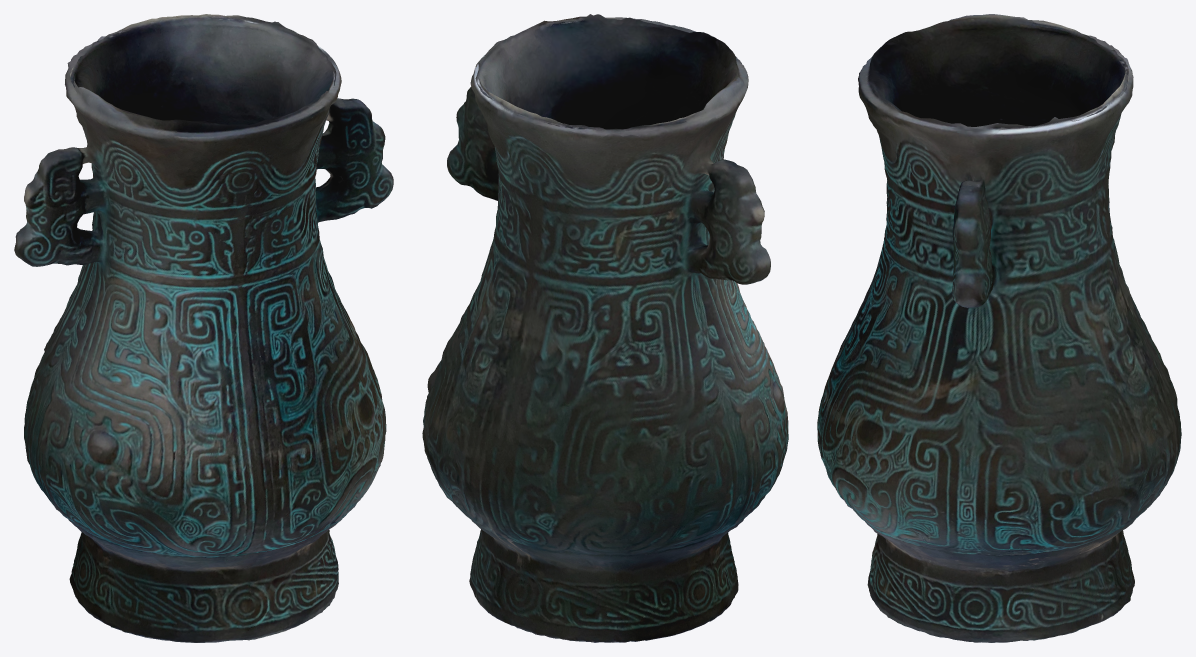
File: 三年兴壶.glb
3 renders of one model, left to right at view 1: azimuth 30°, elevation 25°; view 2: azimuth 150°, elevation 25°; view 3: azimuth 270°, elevation 25°, orthographic.
Parts seen in each view (by area): view 1: Object_4; view 2: Object_4; view 3: Object_4.
Boxes of the visible parts, bbox=[...] form: Object_4: bbox=[14, 14, 393, 642]; Object_4: bbox=[422, 14, 788, 642]; Object_4: bbox=[817, 14, 1181, 642].
Bounding box in the file's own units: 3.74 × 5.4 × 3.41.
1 material, 1 textured.
